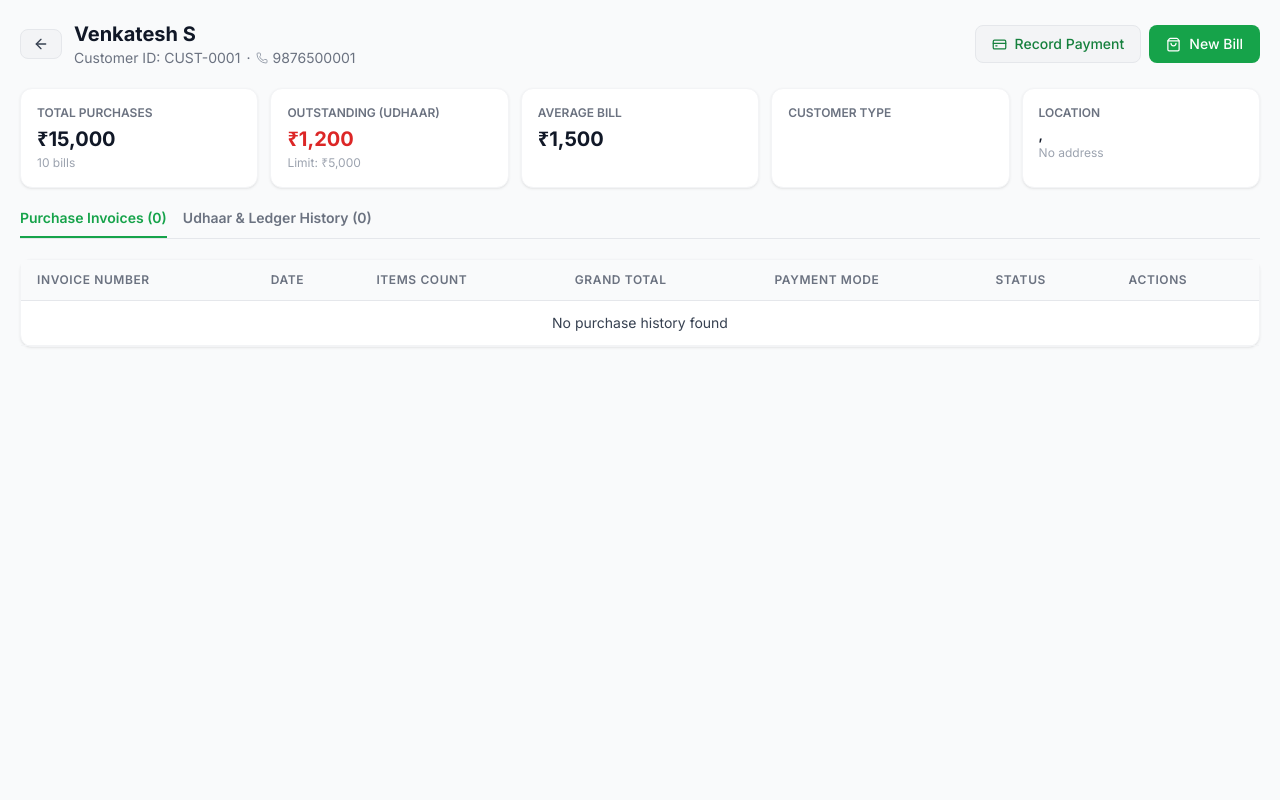
Test: CustomerDetailPage Component & Buttons › renders customer KPI overview and opens Record Payment modal
The image size is (1280, 800).
Expected: the heading "Venkatesh S" is shown, [74,22,196,46]
Expected: the text "₹1,200" is shown, [287,127,354,151]
Click the button "Record Payment".
click(1058, 44)  # box [975,25,1141,63]
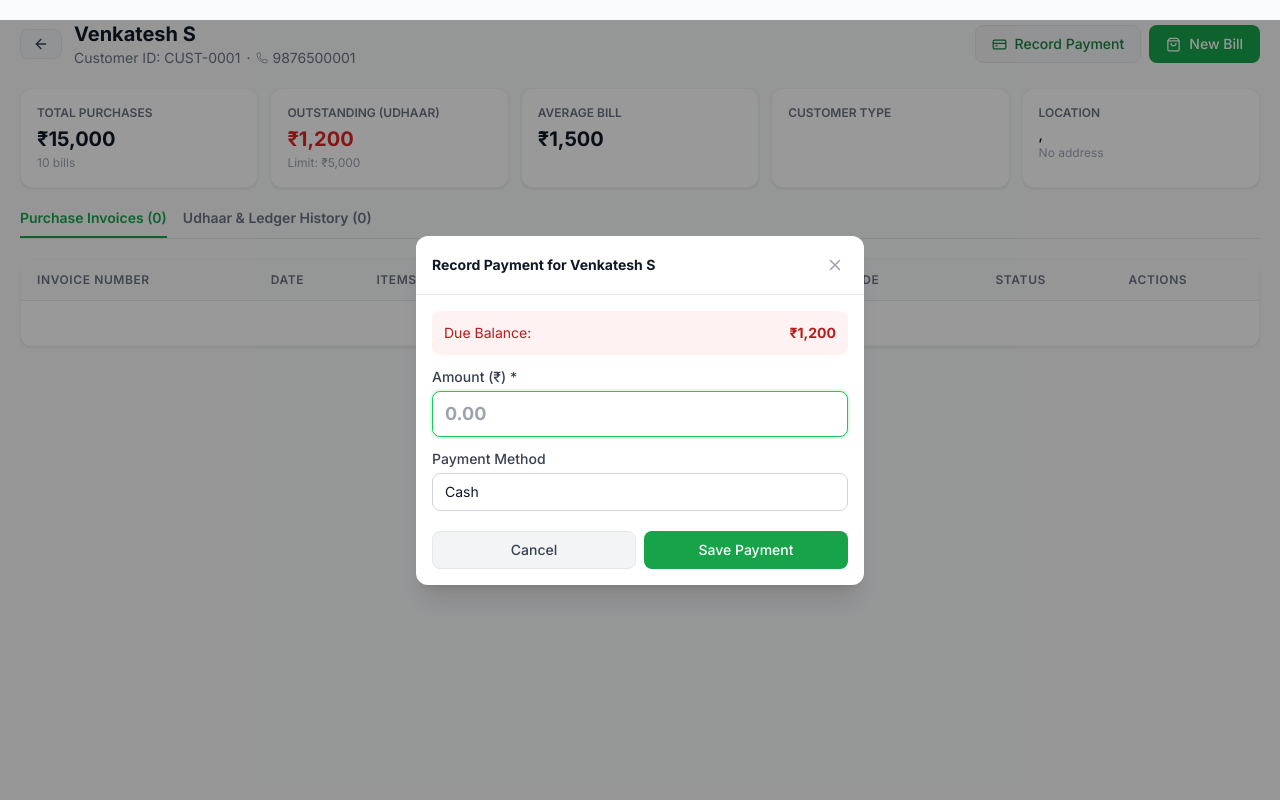
Result: the heading "Record Payment for Venkatesh S" is shown at [432,254,655,275]
